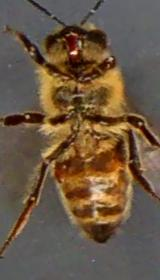varroa_mite: (42, 150, 74, 181)
